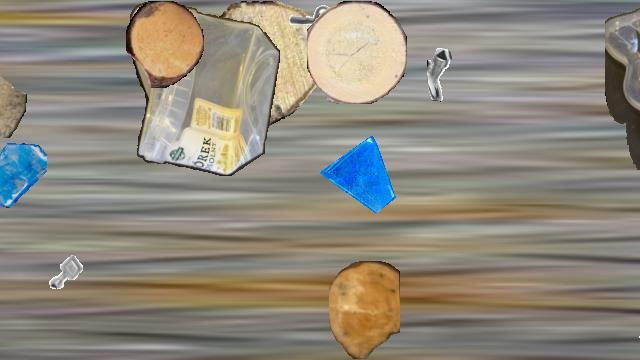glass: (320, 136, 396, 212), (0, 142, 47, 208), (0, 78, 2, 160)
metal: (274, 1, 336, 63), (427, 46, 483, 102), (41, 247, 91, 297), (631, 305, 640, 355)
plastic: (130, 1, 280, 175), (605, 1, 640, 169)
wood: (184, 1, 324, 127), (307, 1, 407, 103), (329, 261, 399, 359), (126, 1, 204, 87), (0, 8, 26, 138)
